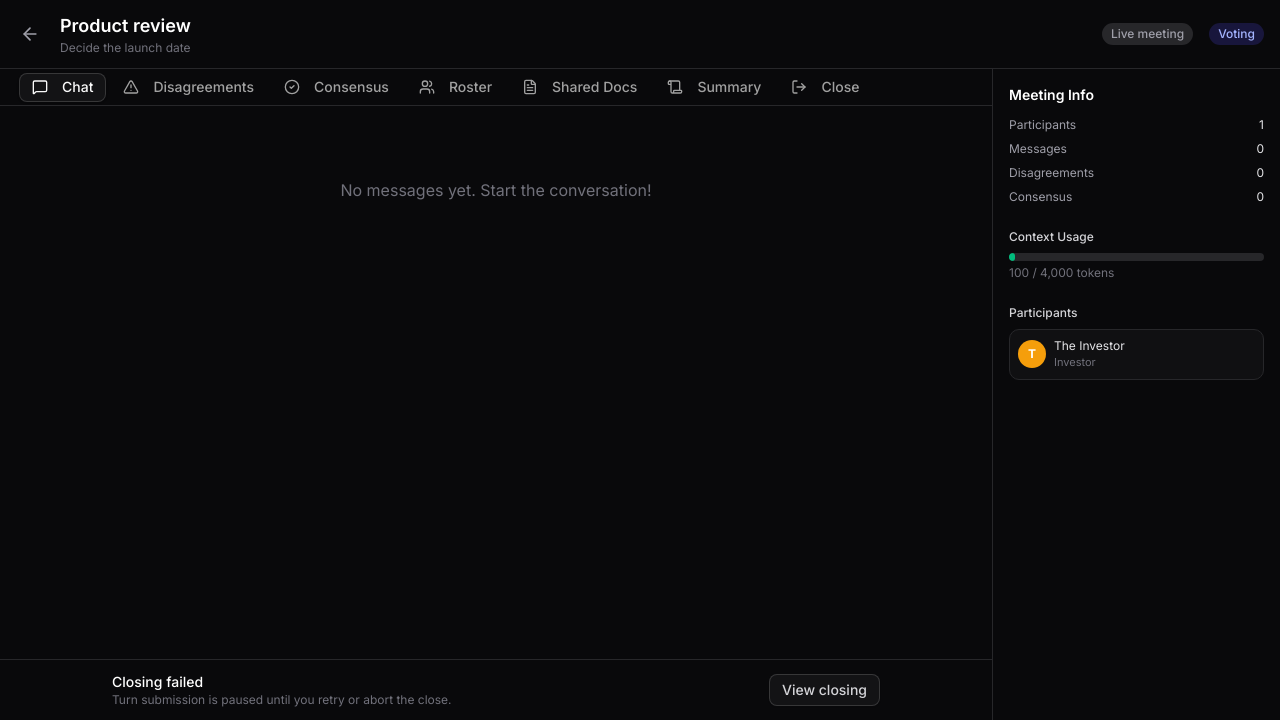
Test: MeetingRoom closing workflow › pauses turns during failure and returns them after an explicit abort
This screenshot has width=1280, height=720.
Expected: the text "Closing failed" is shown, [112,673,203,690]
Expected: the text "Turn submission is paused until you retry or abort the close." is shown, [112,692,452,707]
Click the button "View closing".
click(824, 690)  # box [769,674,880,706]
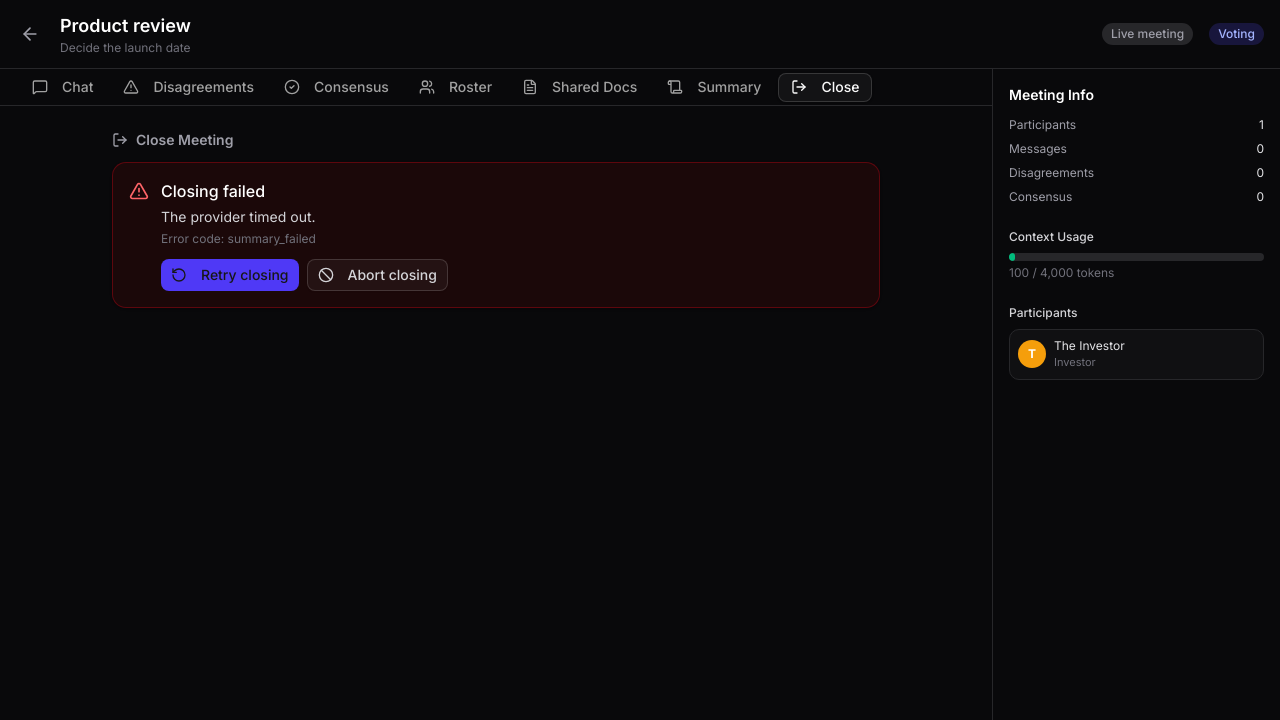
Expected: the heading "Close Meeting" is shown, [112,131,233,148]
Expected: the text "The provider timed out." is shown, [161,208,316,225]
Click the button "Abort closing".
click(377, 275)  # box [306,259,448,291]
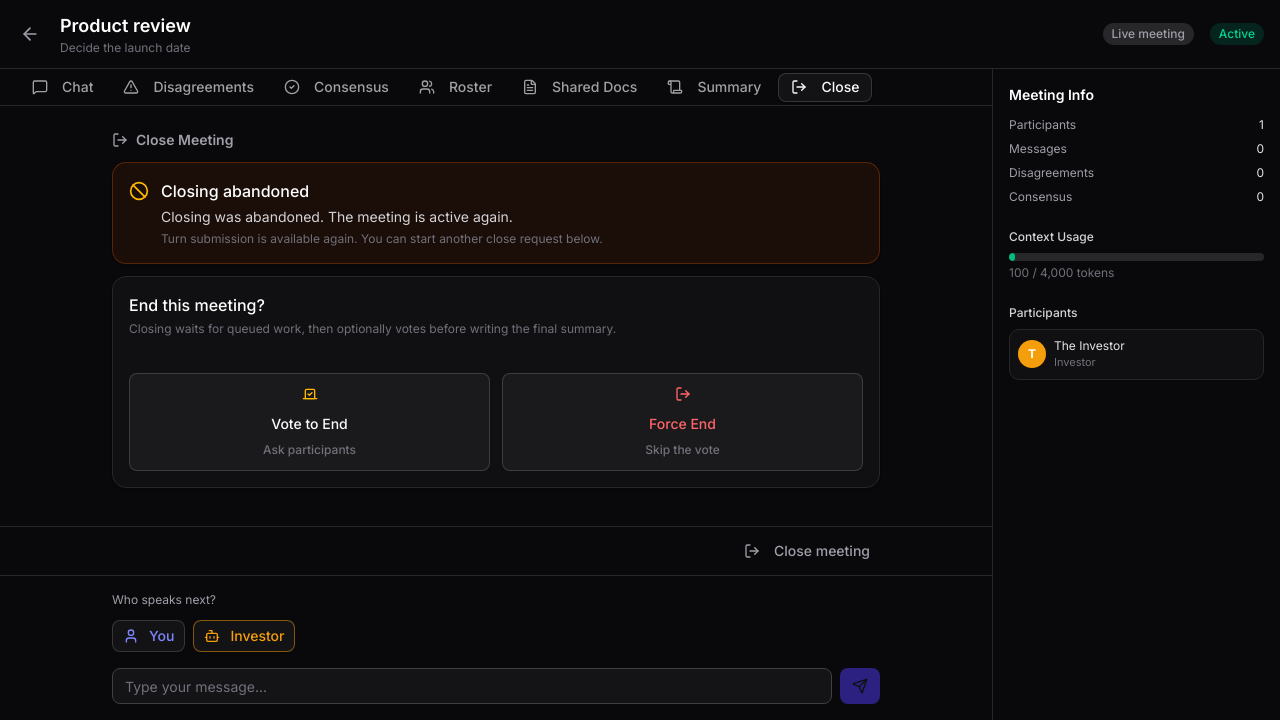
Expected: the heading "Closing abandoned" is shown, [161,181,309,201]
Expected: the field with placeholder "Type your message..." is shown, [112,668,832,704]
